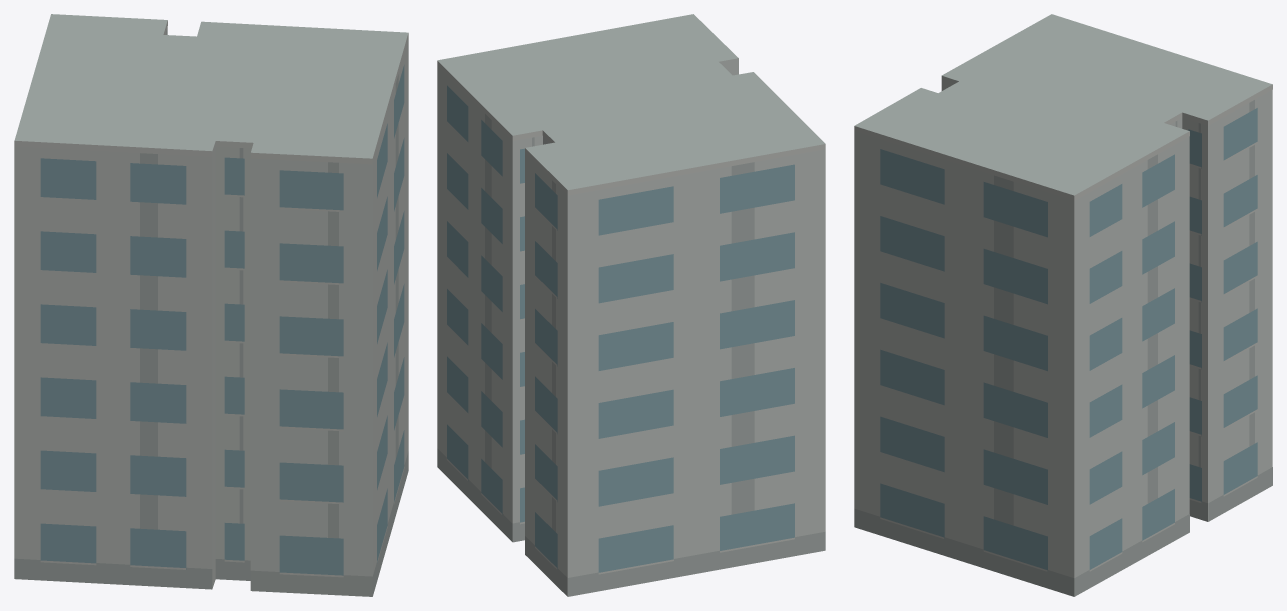
File: survey-upis-32846927.glb
The picture shows the model from 3 angles, left to right: view 1: azimuth 30°, elevation 25°; view 2: azimuth 150°, elevation 25°; view 3: azimuth 270°, elevation 25°; orthographic projection. The views are drawn at different scales.
Parts seen in each view (by area): view 1: survey-upis-32846927.tmp; view 2: survey-upis-32846927.tmp; view 3: survey-upis-32846927.tmp.
Boxes of the visible parts, left/top/right/bottom form: survey-upis-32846927.tmp: left=14, top=14, right=408, bottom=596; survey-upis-32846927.tmp: left=437, top=14, right=825, bottom=596; survey-upis-32846927.tmp: left=854, top=14, right=1272, bottom=596.
Size of the model in its own units: 17.91 by 18.45 by 17.45.
